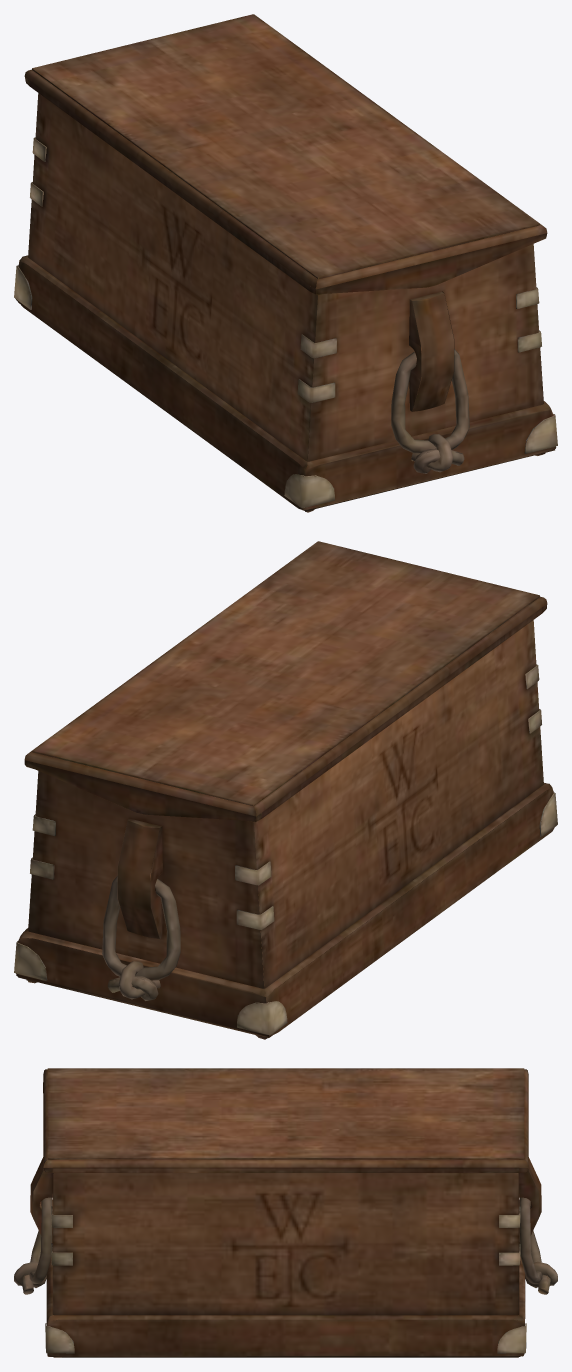
File: ph_wooden_crate_02.glb
3 views of the same model, one above another, from view 1: azimuth 30°, elevation 25°; view 2: azimuth 150°, elevation 25°; view 3: azimuth 270°, elevation 25° (orthographic). The views are drawn at different scales.
Visible parts, largest first — view 1: wooden_crate_02_crate; view 2: wooden_crate_02_crate; view 3: wooden_crate_02_crate.
Part boxes in pixels (box(x1,y1,x2,y2)): wooden_crate_02_crate: box(14, 14, 557, 512); wooden_crate_02_crate: box(14, 541, 557, 1039); wooden_crate_02_crate: box(14, 1068, 557, 1357).
Bounding box in the file's own units: 0.5291 × 0.464 × 1.17.
1 material, 1 textured.
